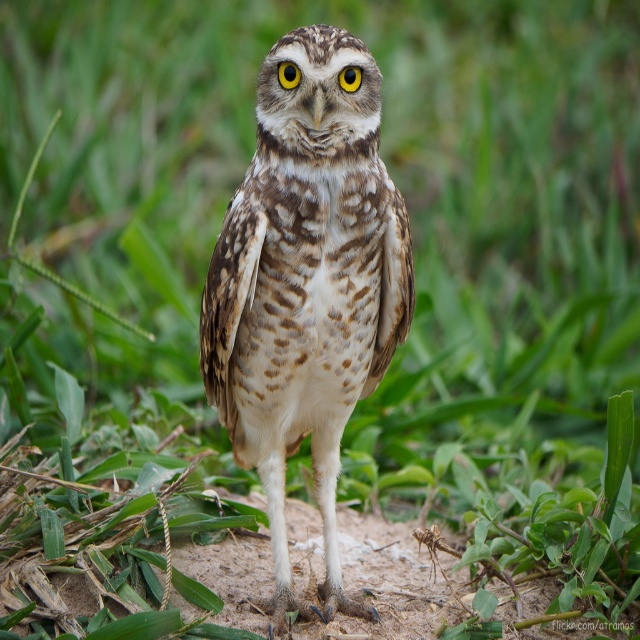Owl: (199, 25, 417, 639)
